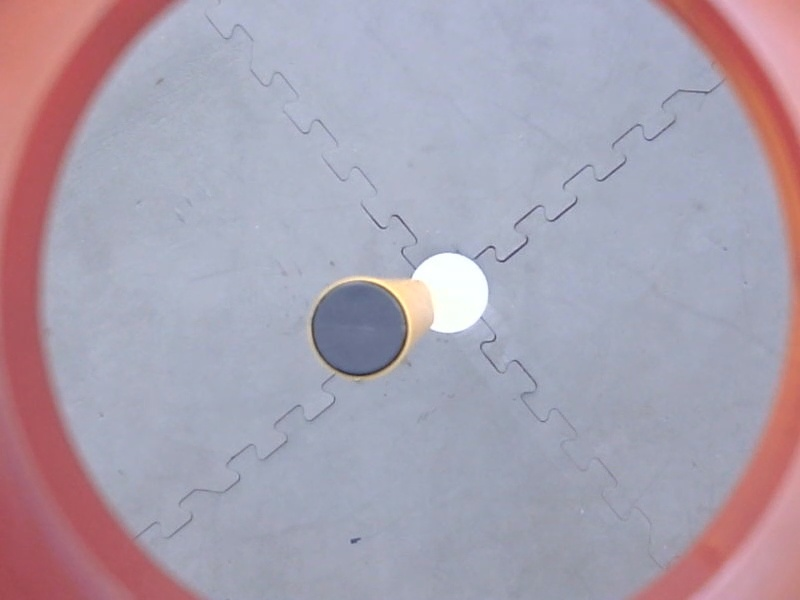tip: (300, 271, 419, 388)
